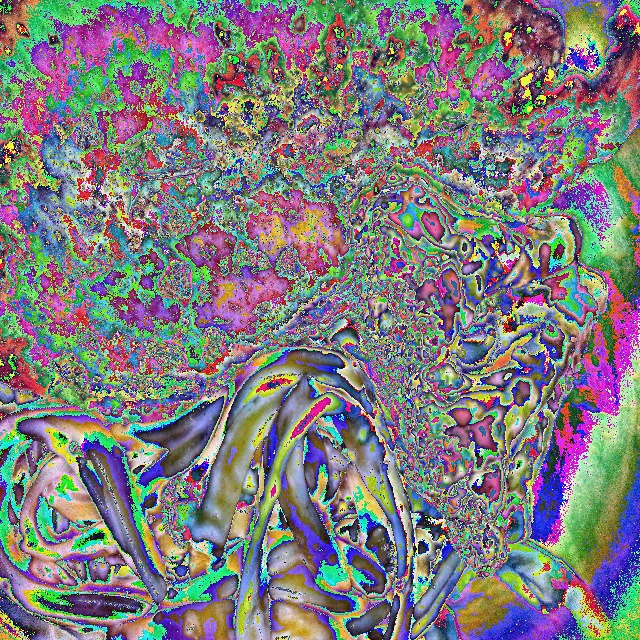background: (0, 2, 640, 639)
